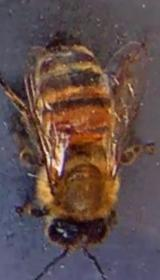varroa_mite: (46, 114, 78, 138)
